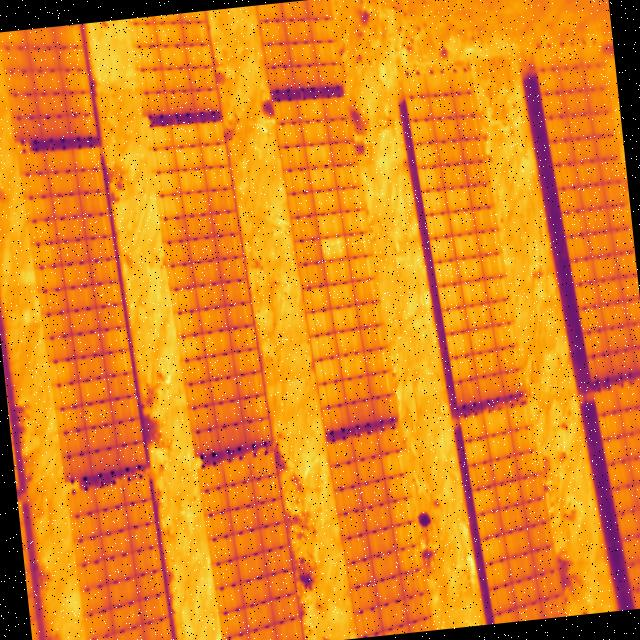Hotspot: (320, 234, 348, 262)
